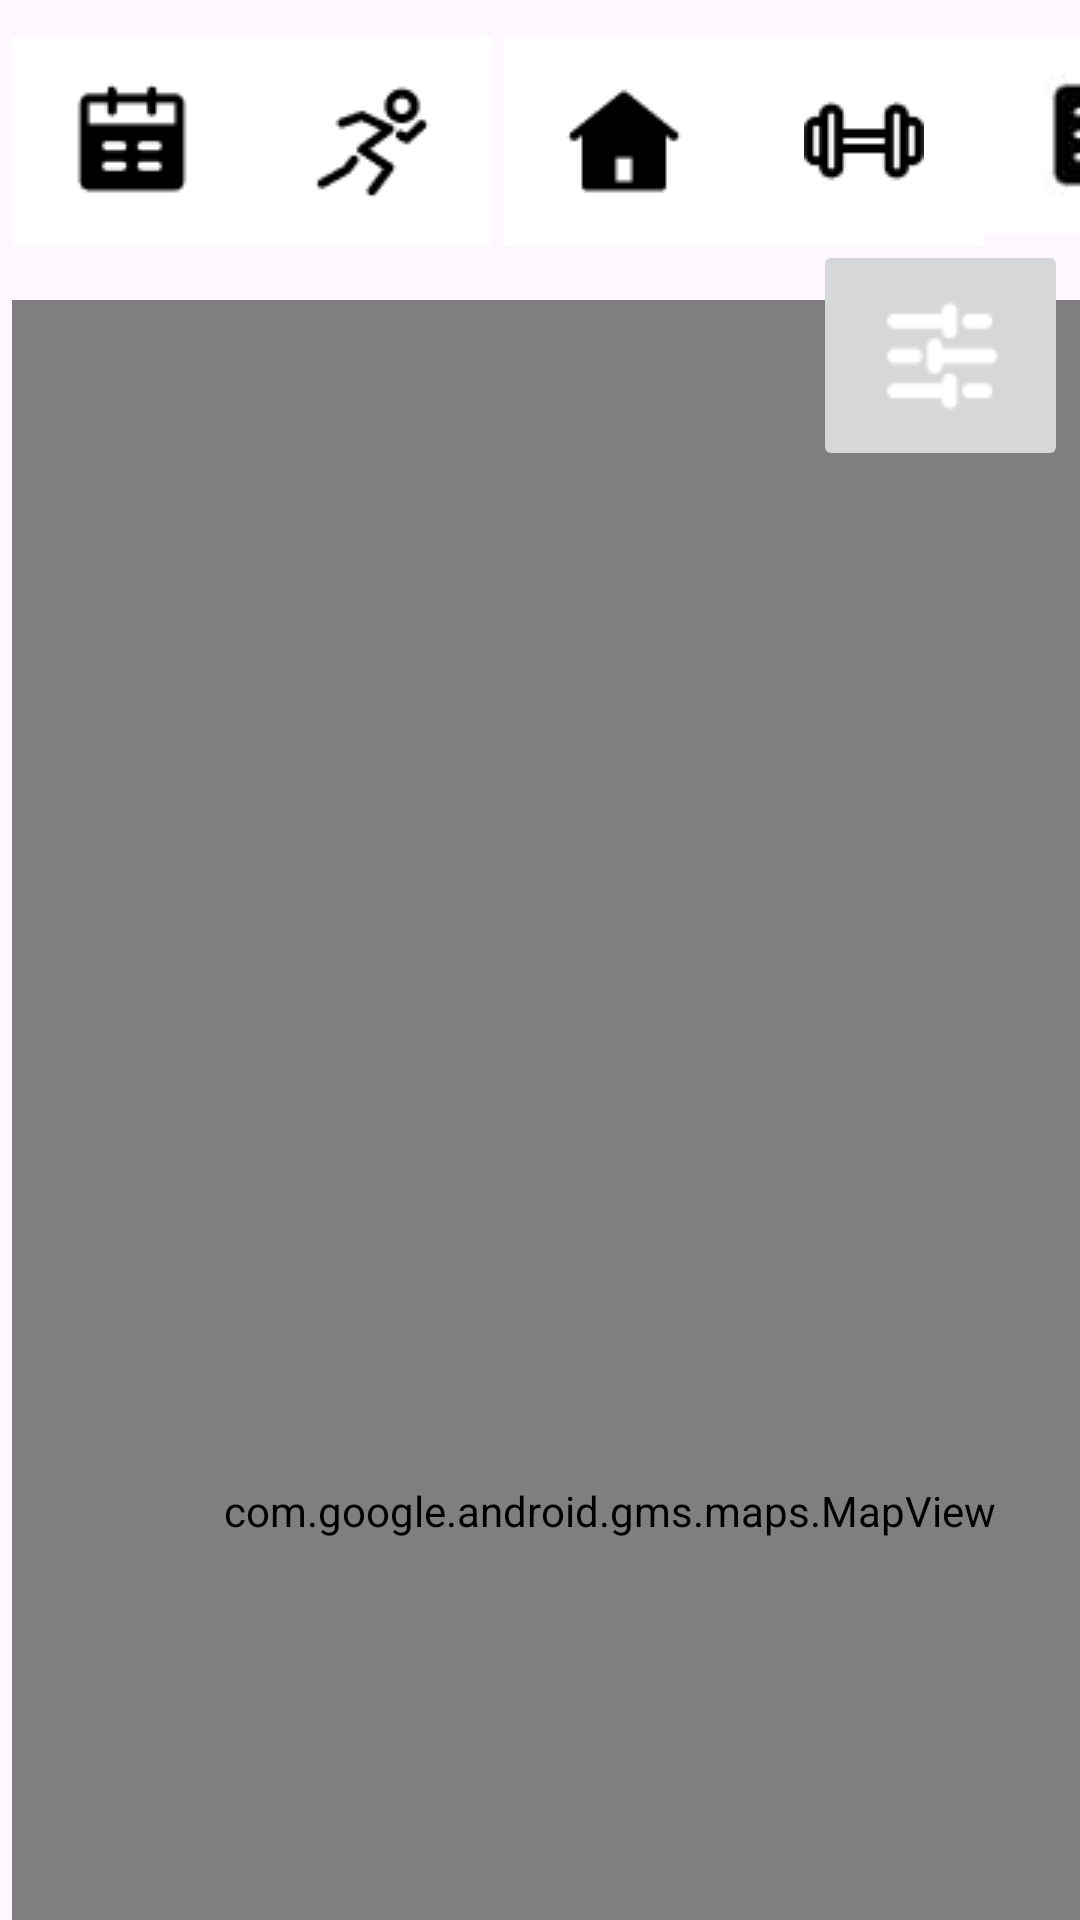

Screen size 1080x1920. Icon name, then its box in pixels as (x1, y1, x2, y2):
home: (568, 89, 680, 193)
reservation: (77, 85, 187, 193)
run: (316, 86, 428, 196)
